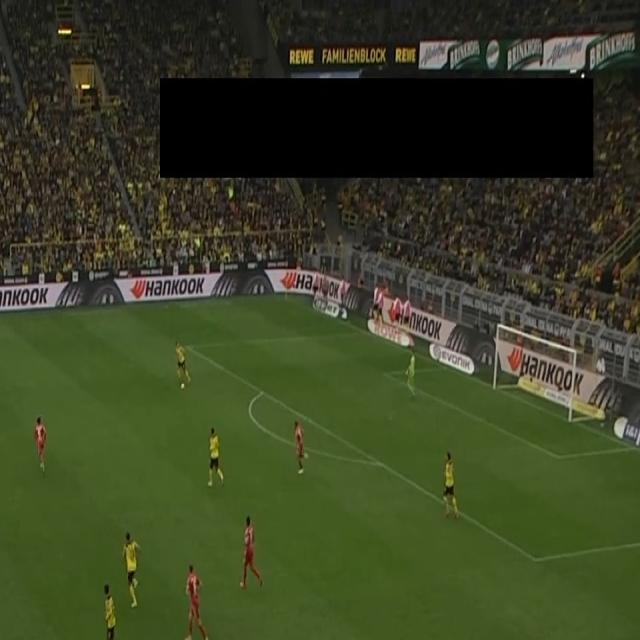ball: (180, 381, 186, 390)
